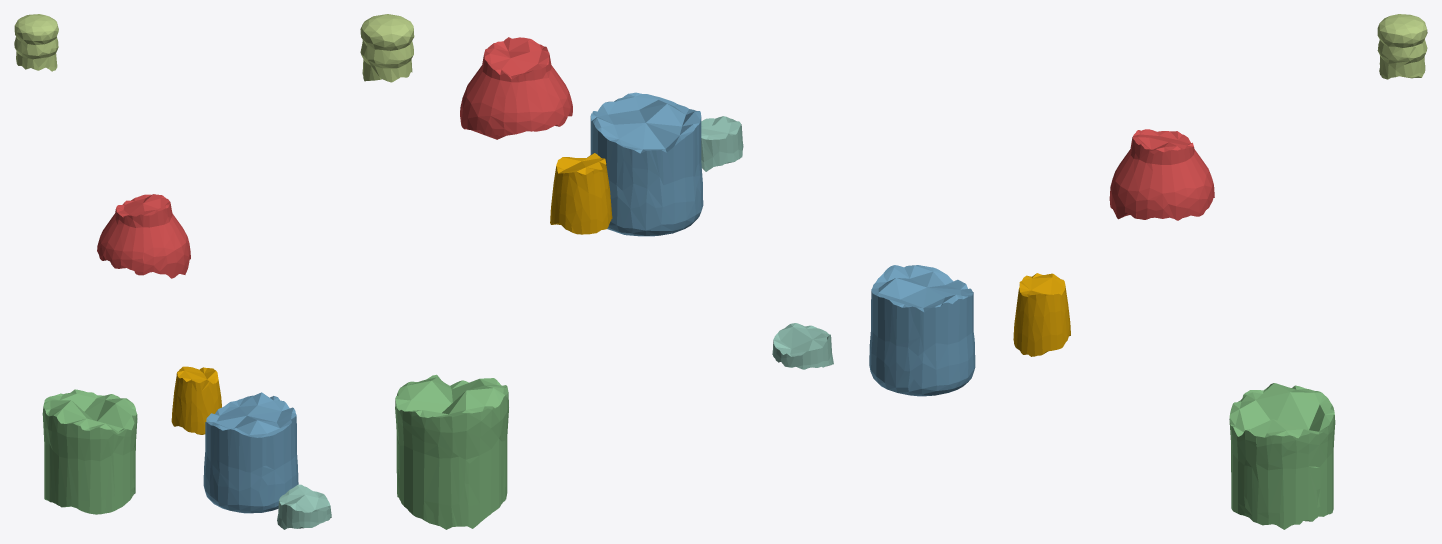
File: fractured_33_6pcs_transformed.glb
The picture shows the model from 3 angles, left to right: view 1: azimuth 30°, elevation 25°; view 2: azimuth 150°, elevation 25°; view 3: azimuth 270°, elevation 25°; orthographic projection. The views are drawn at different scales.
Parts seen in each view (by area): view 1: piece_3.obj, piece_2.obj, piece_1.obj, piece_0.obj, piece_5.obj, piece_4.obj; view 2: piece_3.obj, piece_2.obj, piece_1.obj, piece_0.obj, piece_5.obj, piece_4.obj; view 3: piece_3.obj, piece_2.obj, piece_1.obj, piece_0.obj, piece_5.obj, piece_4.obj.
Part boxes in pixels (box(x1,y1,x2,y2)): piece_3.obj: box(42, 389, 137, 514); piece_2.obj: box(203, 392, 298, 513); piece_1.obj: box(97, 194, 190, 278); piece_0.obj: box(171, 366, 221, 434); piece_5.obj: box(14, 14, 58, 71); piece_4.obj: box(277, 484, 331, 529); piece_3.obj: box(395, 374, 508, 529); piece_2.obj: box(590, 92, 703, 236); piece_1.obj: box(460, 37, 572, 139); piece_0.obj: box(550, 153, 612, 234); piece_5.obj: box(360, 14, 414, 82); piece_4.obj: box(701, 116, 743, 171); piece_3.obj: box(1229, 383, 1335, 529); piece_2.obj: box(869, 265, 975, 396); piece_1.obj: box(1109, 129, 1214, 220); piece_0.obj: box(1013, 273, 1070, 356); piece_5.obj: box(1377, 14, 1427, 79); piece_4.obj: box(772, 323, 833, 369).
Bounding box in the file's own units: 0.2656 × 1.37 × 1.64.
